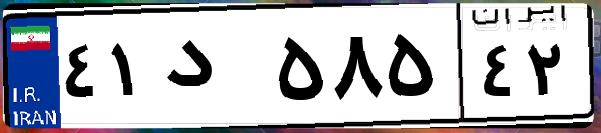1: (110, 28, 158, 98)
2: (525, 38, 570, 115)
4: (57, 26, 110, 100), (475, 38, 525, 113)
5: (270, 28, 330, 110), (385, 28, 445, 110)
8: (330, 28, 385, 110)
د: (158, 20, 270, 120)
